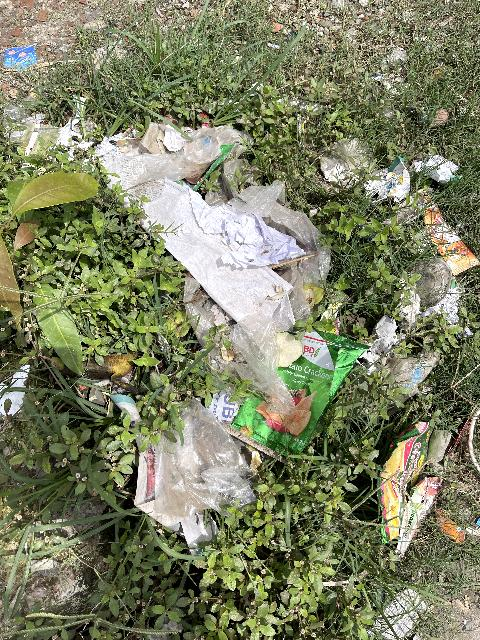polythene: (107, 112, 331, 335)
